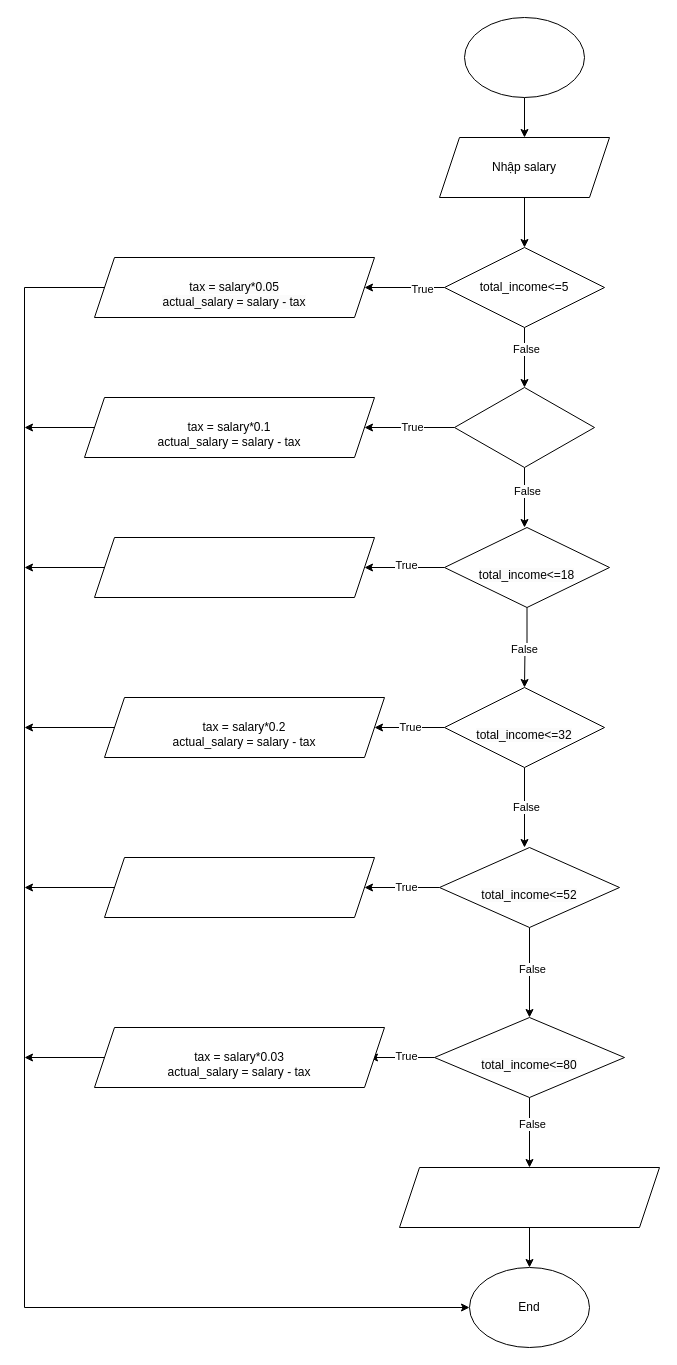
This 677x1365 diagram has some shape labels left out. Here are the shapes that lost their labels. From the top down, the box of each, then its label:
(464, 16, 584, 98): Start
(454, 386, 594, 468): total_income<=10
(94, 536, 374, 598): tax = salary*0.15 actual_salary = salary - tax
(104, 856, 374, 918): tax = salary*0.25 actual_salary = salary - tax
(398, 1166, 660, 1228): tax = salary*0.35 actual_salary = salary - tax
